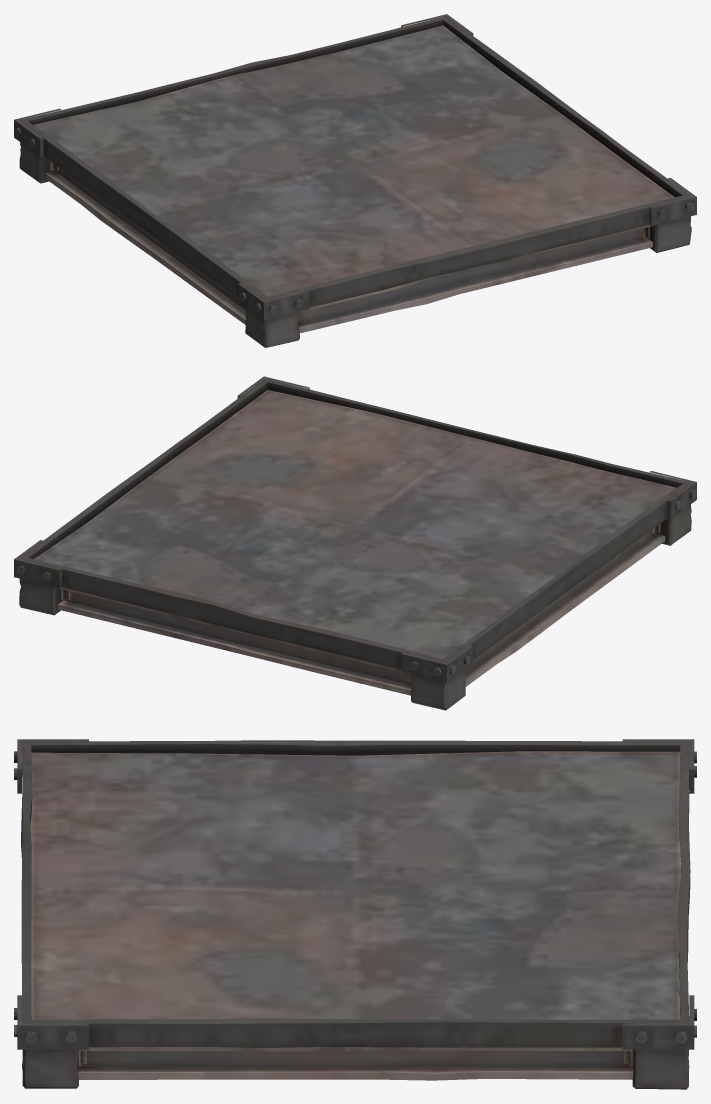
File: SM_Roof_Iron_e290e7.glb
The picture shows the model from 3 angles, top to bottom: view 1: azimuth 30°, elevation 25°; view 2: azimuth 150°, elevation 25°; view 3: azimuth 270°, elevation 25°; orthographic projection. The views are drawn at different scales.
Bounding box in the file's own units: 4.06 × 0.4493 × 4.06.
Materials: 1 (1 with a texture image).
